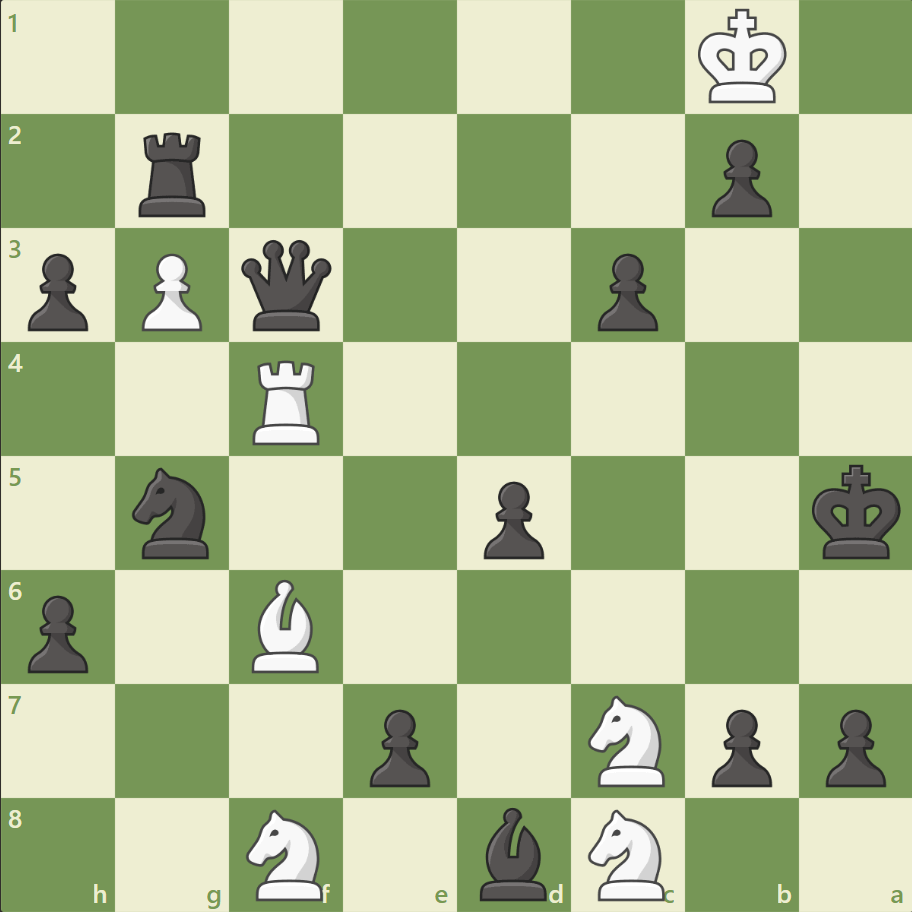B: (244, 574, 328, 676)
K: (692, 4, 792, 112)
N: (579, 688, 676, 791), (579, 802, 676, 904), (238, 802, 335, 904)
P: (133, 246, 208, 337)
R: (246, 352, 329, 449)
b: (471, 801, 555, 904)
k: (806, 458, 906, 566)
n: (124, 461, 222, 564)
p: (701, 700, 776, 791), (20, 586, 95, 677), (474, 473, 549, 564), (20, 246, 95, 337), (701, 132, 776, 223), (815, 700, 889, 791), (361, 700, 435, 791), (588, 246, 662, 337)
q: (237, 236, 336, 335)
r: (133, 125, 215, 222)
